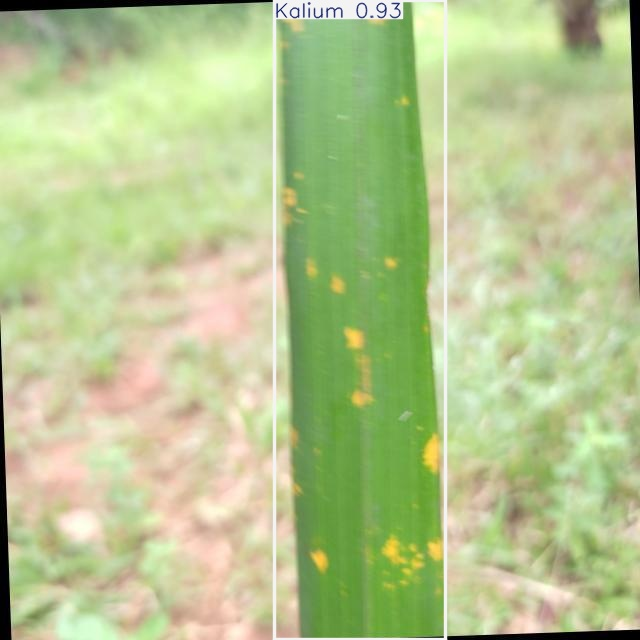Kalium: (274, 0, 445, 640)
